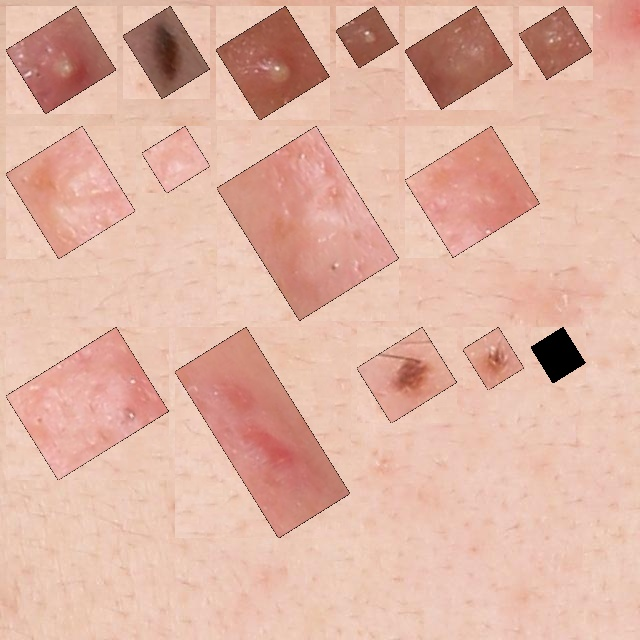hypertrophic_scar: (186, 338, 339, 527), (228, 137, 388, 309), (17, 338, 158, 469), (416, 137, 529, 246), (17, 137, 124, 247), (416, 17, 502, 98), (530, 17, 581, 68), (153, 137, 199, 182)
nevus: (368, 338, 446, 412), (134, 17, 199, 87), (474, 338, 513, 379), (542, 338, 574, 372)
pustule: (227, 17, 318, 109), (17, 17, 105, 103), (347, 17, 387, 57)
